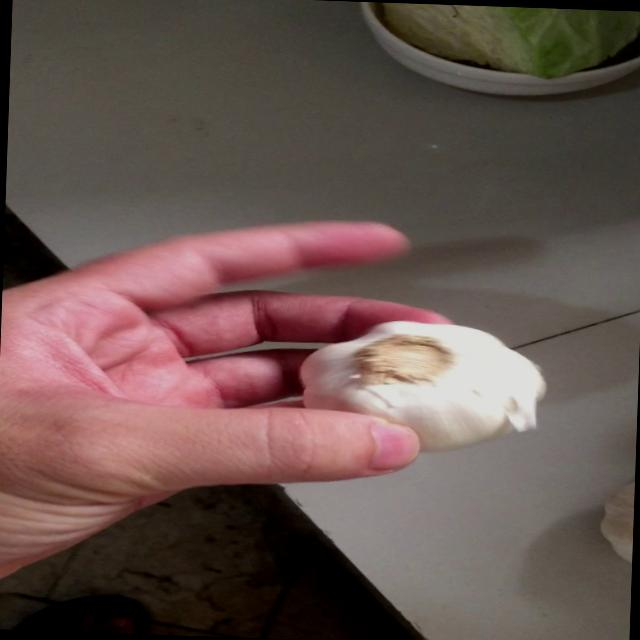bawang: (294, 314, 549, 456)
